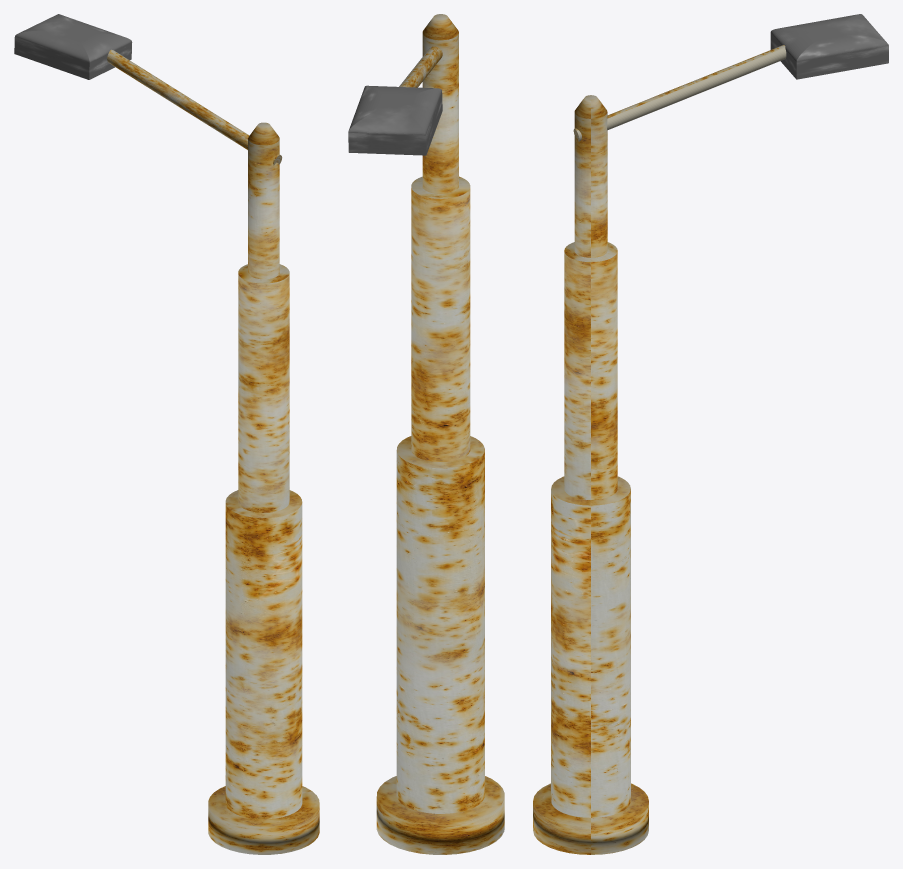
The model's file is lampMaybe1.fbx.
3 renders of one model, left to right at view 1: azimuth 30°, elevation 25°; view 2: azimuth 150°, elevation 25°; view 3: azimuth 270°, elevation 25°, orthographic. The views are drawn at different scales.
Parts seen in each view (by area): view 1: Cylinder, Cube; view 2: Cylinder, Cube; view 3: Cylinder, Cube.
Part boxes in pixels (bbox=[...]): Cylinder: bbox=[107, 49, 319, 854]; Cube: bbox=[14, 14, 132, 79]; Cylinder: bbox=[376, 14, 504, 854]; Cube: bbox=[348, 85, 442, 155]; Cylinder: bbox=[533, 45, 786, 854]; Cube: bbox=[770, 14, 888, 79].
Size of the model in its own units: 327 by 1373 by 581.
Materials: 3 (2 with a texture image).
